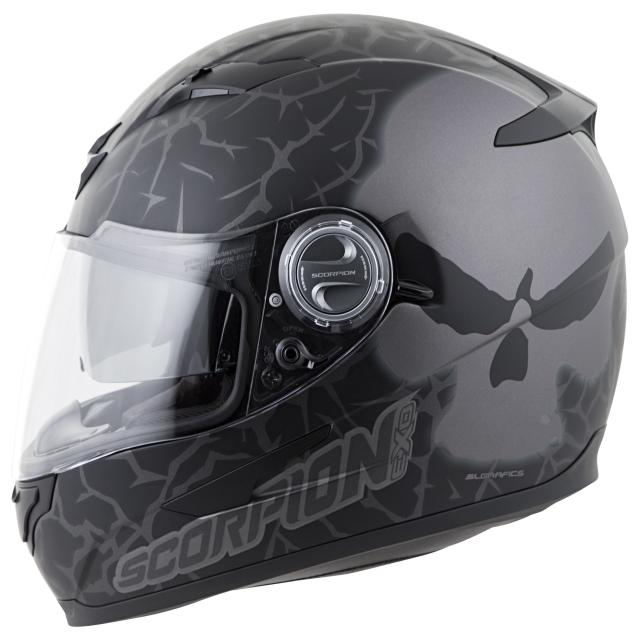Helmet: (12, 16, 626, 625)
